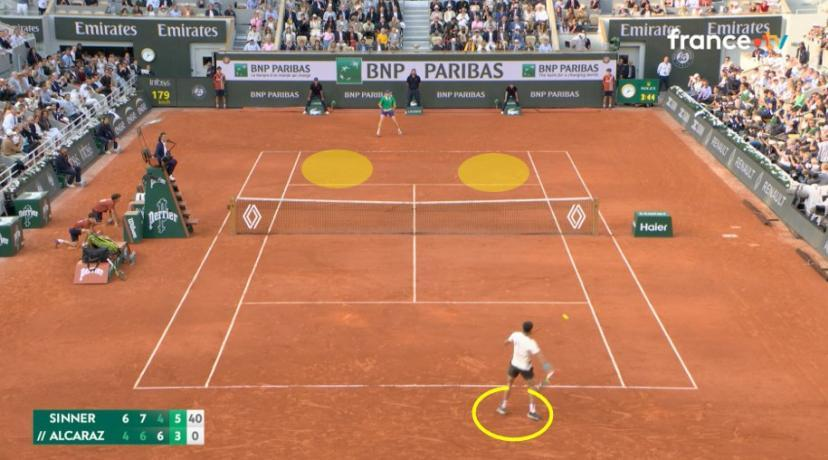ball_tennis: (561, 312, 569, 321)
